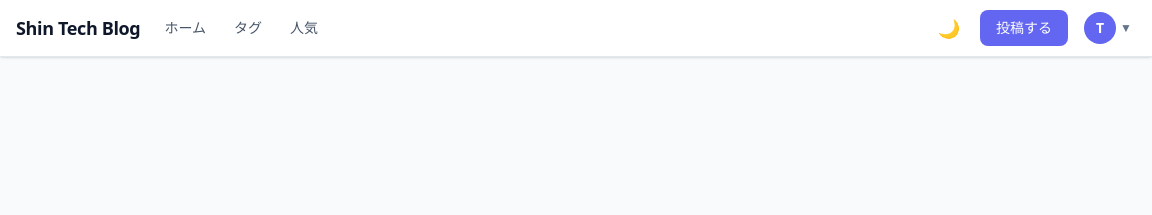
Scenario: NavBar › 認証済み状態 (Requirement 2.1, 2.2) › アバタードロップダウンを開くとログアウトボタンが表示される (Requirement 2.1)
The image size is (1152, 215).
Click the button with test id "avatar-dropdown-trigger" at x=1108, y=28, box left=1080, top=8, right=1136, bottom=48
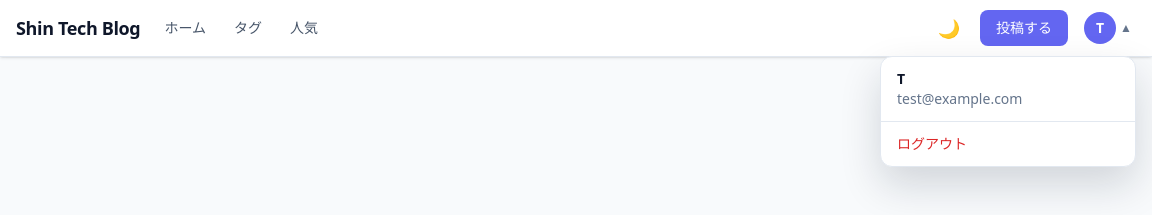
Now the menu item with test id "nav-logout-button" is shown, box left=881, top=122, right=1135, bottom=166
